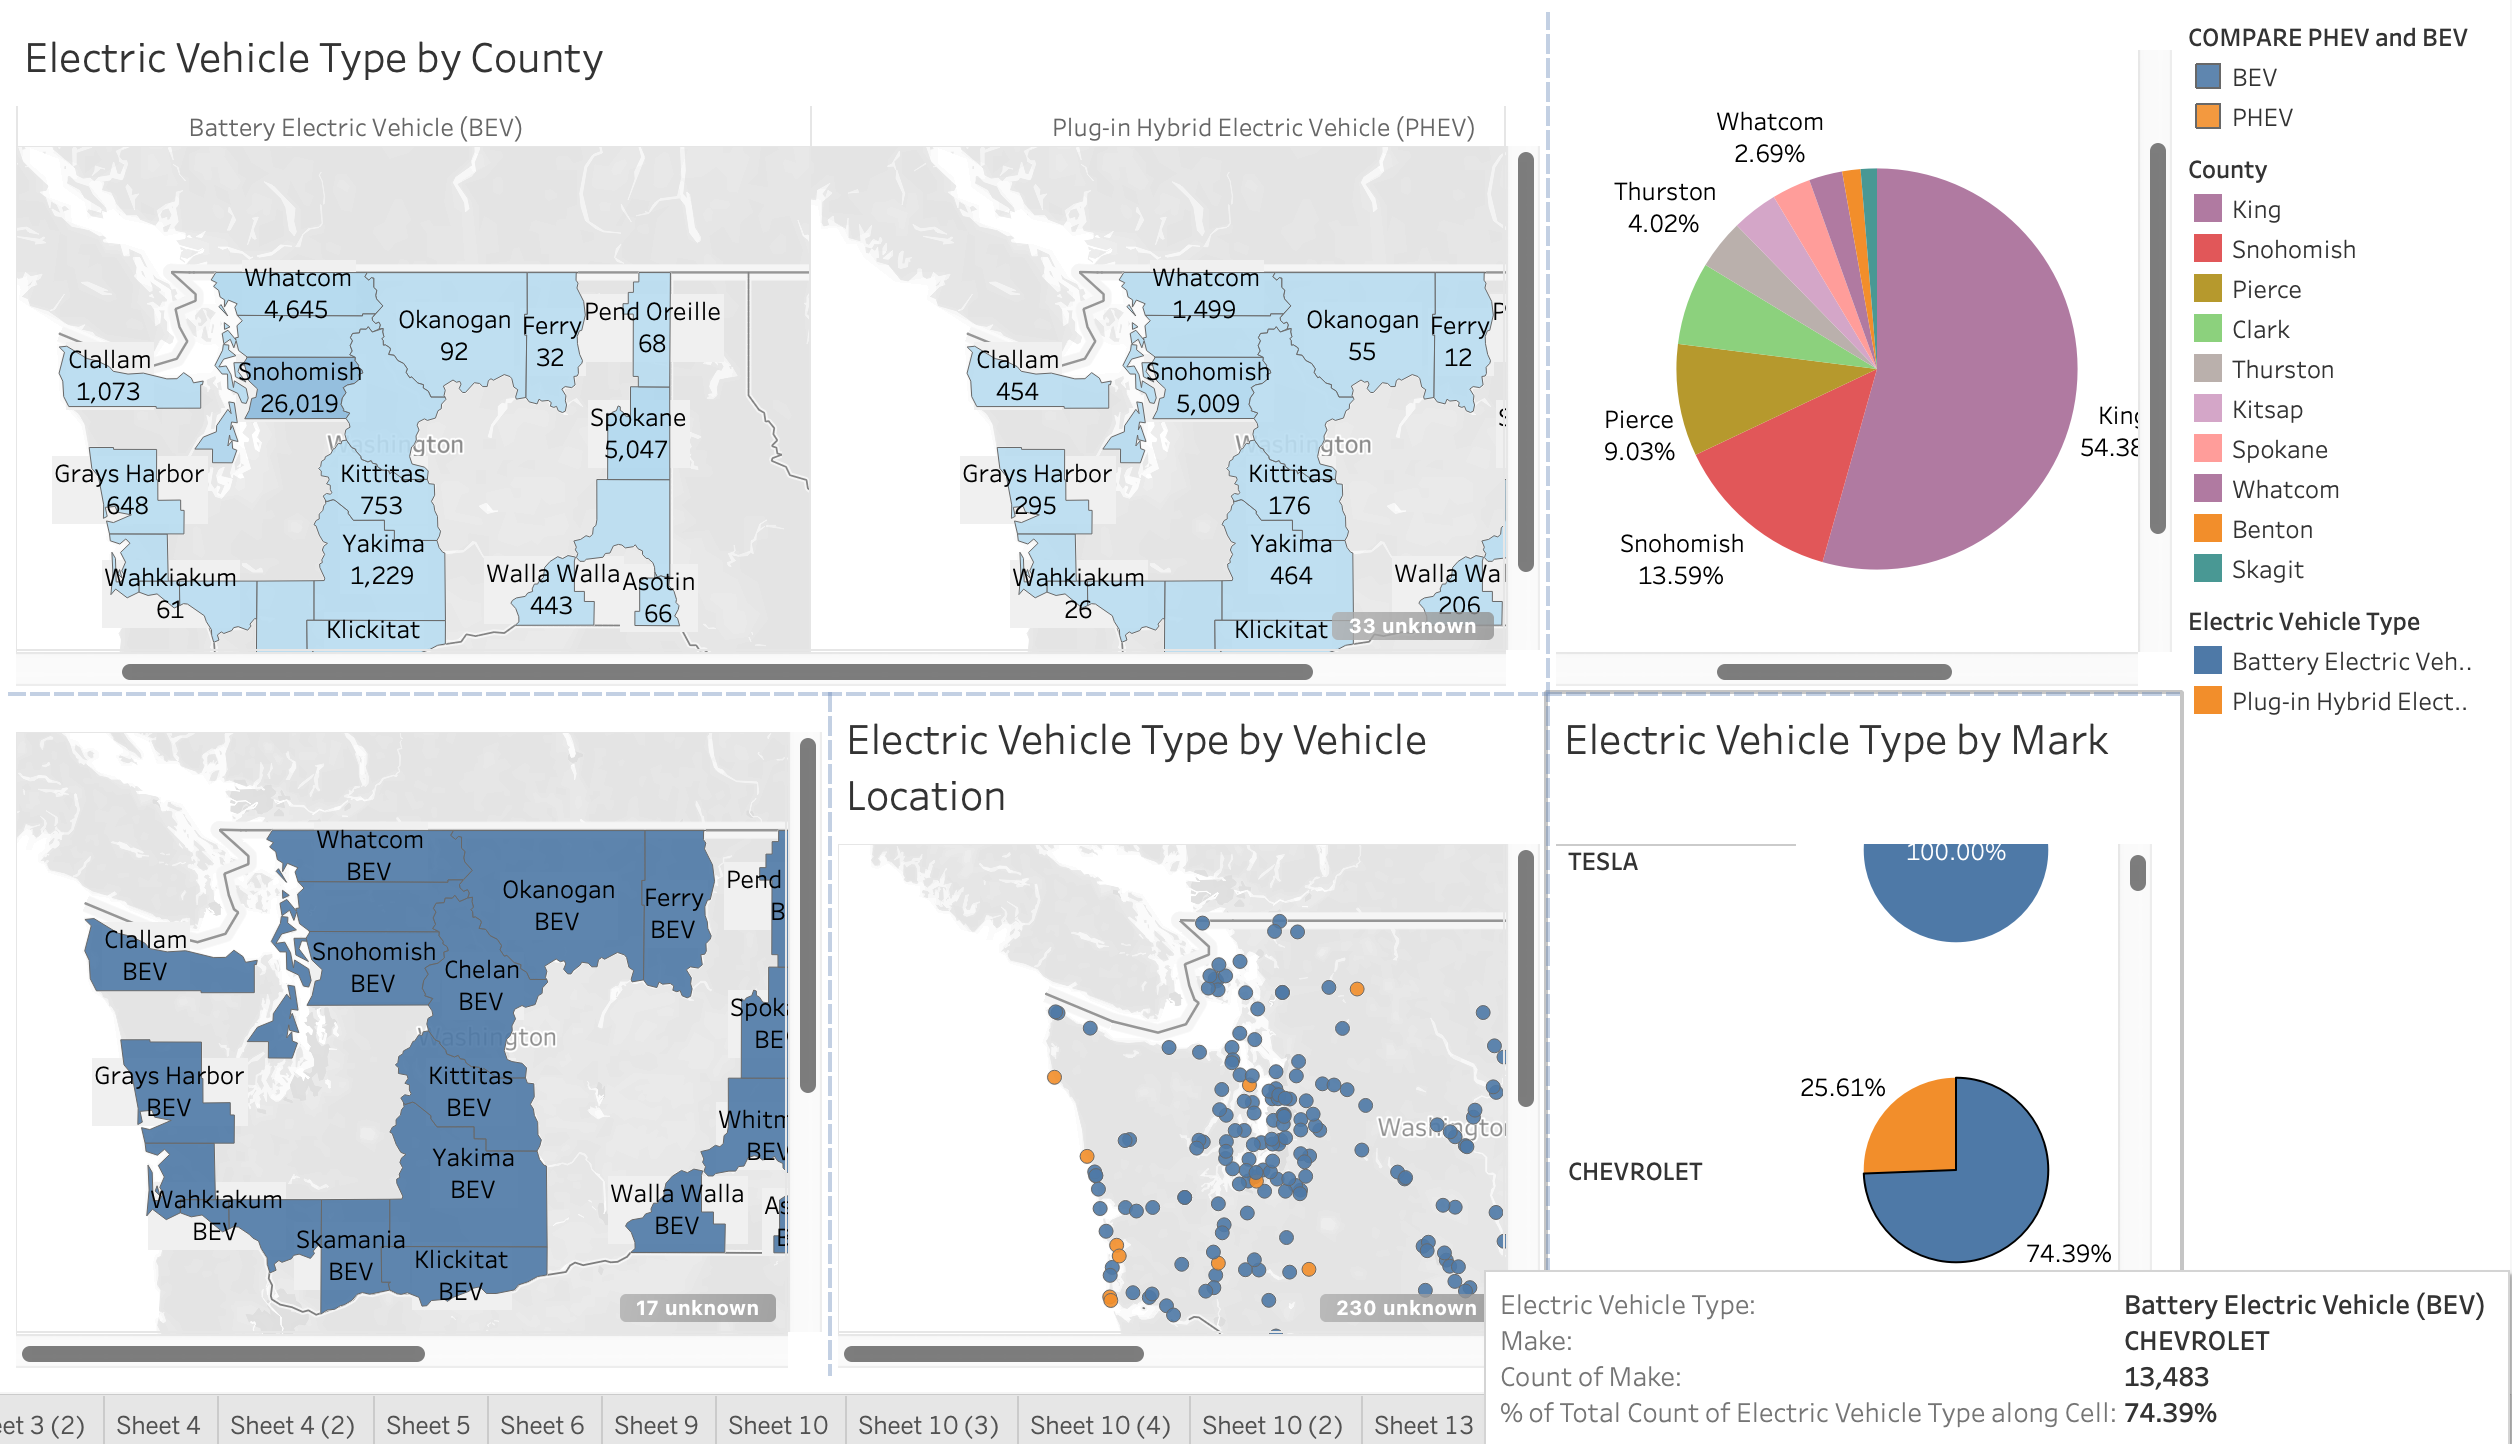

The page's visual inventory and layout, read from the dashboard file:
{"tool":"tableau","page":{"name":"Dashboard 2","canvas":[1000,1000],"units":"permille","ordinal":1},"visuals":[{"type":"worksheet","title":"Sheet 10","mark":"Multipolygon","cols":["Electric Vehicle Type"],"box":[6.2,11.5,614.6,488.5]},{"type":"worksheet","title":"Sheet 10 (2)","mark":"Pie","box":[620.7,11.5,252.2,488.5]},{"type":"legend","title":"Sheet 10 (3)","param":"[federated.0okwu6h1vopnvm1c1umx01kwji1w].[usr:Calculation_2764682786148360:nk]","box":[873,11.5,120.9,94.5]},{"type":"legend","title":"Sheet 10 (2)","param":"[federated.0okwu6h1vopnvm1c1umx01kwji1w].[none:County:nk]","box":[873,106,120.9,323.8]},{"type":"legend","title":"Sheet 14","param":"[federated.0okwu6h1vopnvm1c1umx01kwji1w].[none:Electric Vehicle Type:nk]","box":[873,429.8,120.9,94.5]},{"type":"worksheet","title":"Sheet 10 (3)","mark":"Multipolygon","box":[6.2,500,328,488.5]},{"type":"worksheet","title":"Sheet 10 (4)","mark":"Multipolygon","box":[334.2,500,286.3,488.5]},{"type":"worksheet","title":"Sheet 14","mark":"Pie","rows":["Make"],"box":[620.5,500,252.5,488.5]}]}

Visuals, with their boxes on the dashboard's canvas, which has no fixed pixel size, in thousandths of its width and height (x1, y1, x2, y2). These are canvas units, not pixel positions in the 2512x1444 screenshot, which may show the page scaled, cropped or inside an application window:
"Sheet 10" worksheet (Multipolygon marks): pyautogui.locateOnScreen(6, 12, 621, 500)
"Sheet 10 (2)" worksheet (Pie marks): pyautogui.locateOnScreen(621, 12, 873, 500)
"Sheet 10 (3)" legend: pyautogui.locateOnScreen(873, 12, 994, 106)
"Sheet 10 (2)" legend: pyautogui.locateOnScreen(873, 106, 994, 430)
"Sheet 14" legend: pyautogui.locateOnScreen(873, 430, 994, 524)
"Sheet 10 (3)" worksheet (Multipolygon marks): pyautogui.locateOnScreen(6, 500, 334, 988)
"Sheet 10 (4)" worksheet (Multipolygon marks): pyautogui.locateOnScreen(334, 500, 620, 988)
"Sheet 14" worksheet (Pie marks): pyautogui.locateOnScreen(620, 500, 873, 988)
